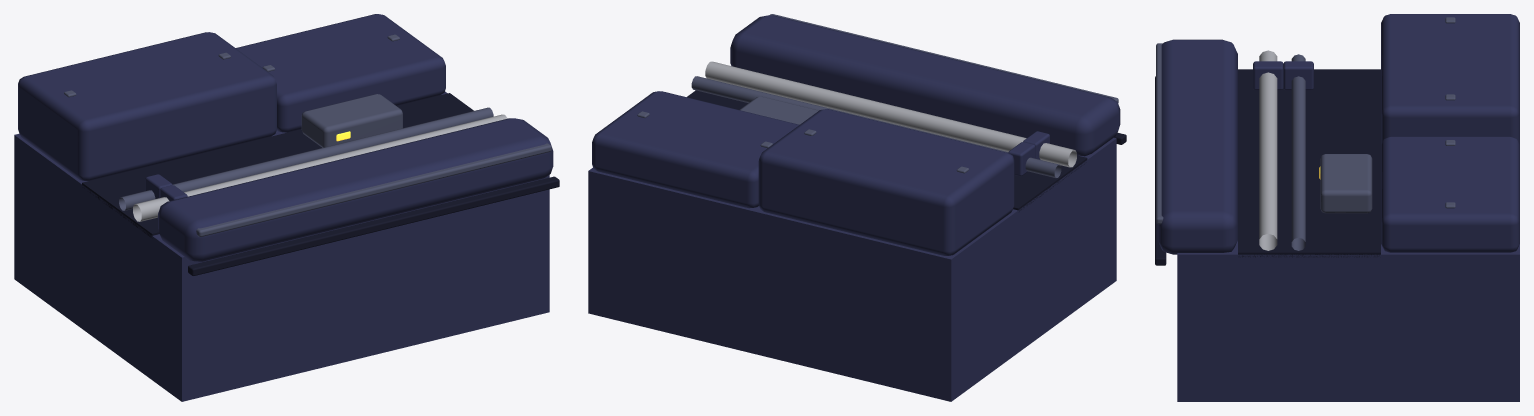
File: int.rimliner.v2.w1.glb
3 views of the same model, side by side, from view 1: azimuth 30°, elevation 25°; view 2: azimuth 150°, elevation 25°; view 3: azimuth 270°, elevation 25° (orthographic). The views are drawn at different scales.
Parts seen in each view (by area): view 1: int.rimliner.v2.w1; view 2: int.rimliner.v2.w1; view 3: int.rimliner.v2.w1.
Boxes of the visible parts, <box> form: int.rimliner.v2.w1: <box>14,14,559,401</box>; int.rimliner.v2.w1: <box>588,14,1126,401</box>; int.rimliner.v2.w1: <box>1155,14,1519,401</box>.
Bounding box in the file's own units: 1 × 0.536 × 0.841.
